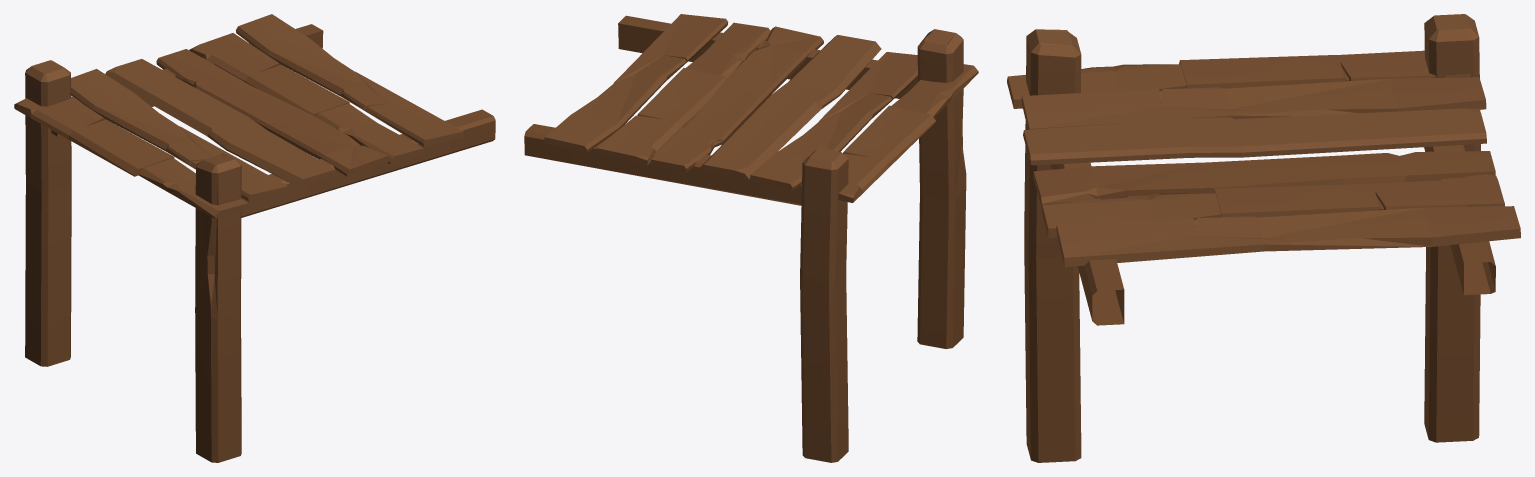
File: Bridge.fbx
The picture shows the model from 3 angles, left to right: view 1: azimuth 30°, elevation 25°; view 2: azimuth 150°, elevation 25°; view 3: azimuth 270°, elevation 25°; orthographic projection. The views are drawn at different scales.
Visible parts, largest first — view 1: 更多3d素材szyt.taobao.com.002; view 2: 更多3d素材szyt.taobao.com.002; view 3: 更多3d素材szyt.taobao.com.002.
Boxes of the visible parts, bbox=[...] form: 更多3d素材szyt.taobao.com.002: bbox=[14, 14, 495, 462]; 更多3d素材szyt.taobao.com.002: bbox=[524, 14, 978, 462]; 更多3d素材szyt.taobao.com.002: bbox=[1007, 14, 1520, 462].
Size of the model in its own units: 118 by 95.31 by 107.
